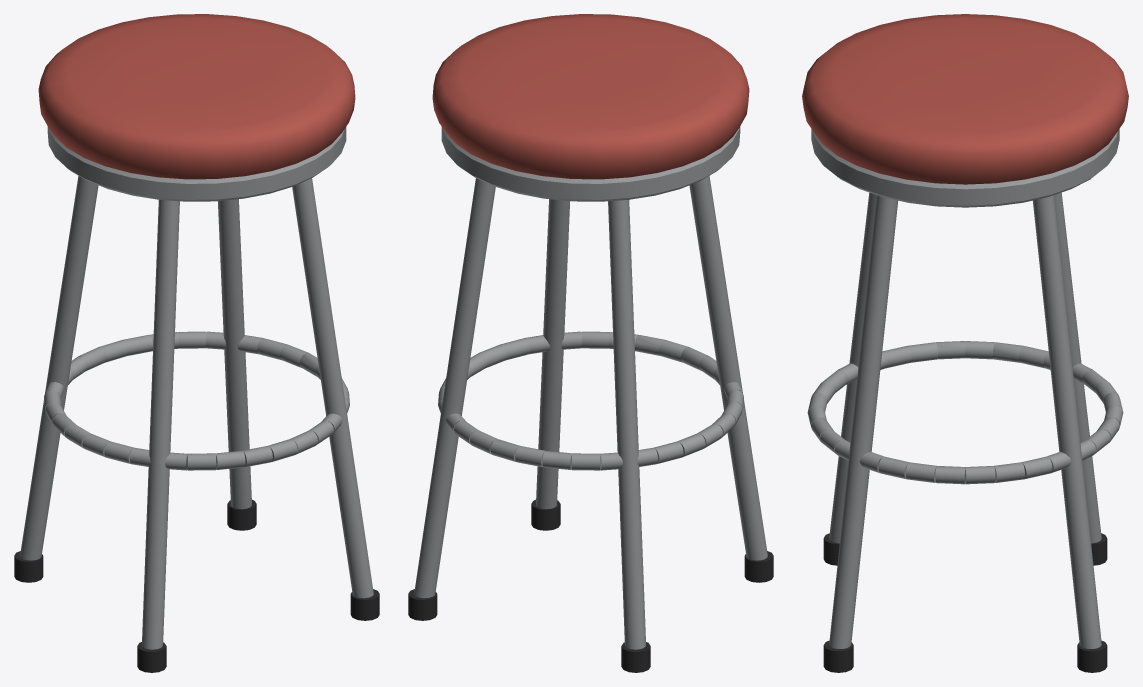
File: BarStool.fbx
3 views of the same model, side by side, from view 1: azimuth 30°, elevation 25°; view 2: azimuth 150°, elevation 25°; view 3: azimuth 270°, elevation 25° (orthographic). The views are drawn at different scales.
Visible parts, largest first — view 1: BarStool_Mesh; view 2: BarStool_Mesh; view 3: BarStool_Mesh.
Part boxes in pixels (x1,y1,x2,y2): BarStool_Mesh: (14, 14, 379, 672); BarStool_Mesh: (408, 14, 773, 672); BarStool_Mesh: (802, 14, 1128, 672).
Size of the model in its own units: 0.414 by 0.754 by 0.414.
